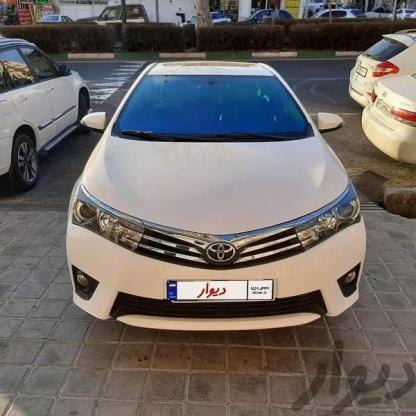Car: (62, 59, 367, 345), (0, 32, 95, 175), (348, 25, 416, 115), (355, 78, 416, 161), (78, 2, 154, 26), (180, 7, 234, 27), (239, 5, 293, 25), (363, 0, 394, 19), (310, 7, 365, 17), (387, 3, 416, 20)
